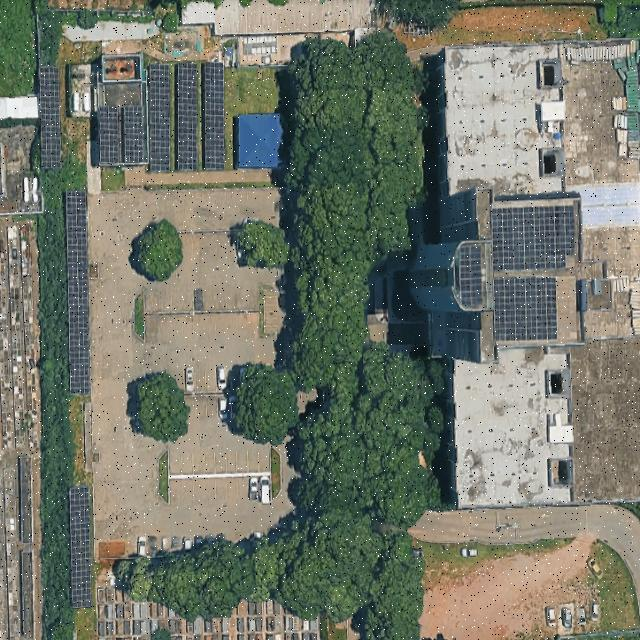painel: (491, 200, 577, 272), (66, 191, 88, 393), (494, 278, 556, 340), (69, 487, 90, 608), (150, 65, 170, 171), (40, 66, 60, 168), (204, 63, 223, 169), (177, 65, 196, 169), (456, 242, 485, 305), (99, 106, 118, 164), (124, 106, 143, 162)
